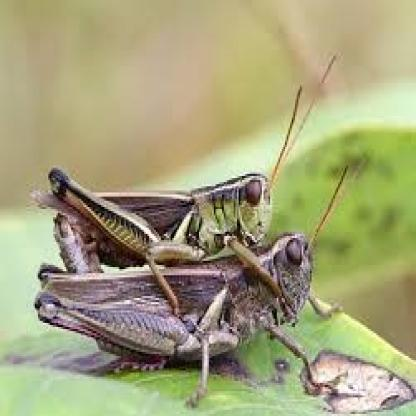grasshopper: (25, 196, 350, 402), (34, 68, 338, 255)
